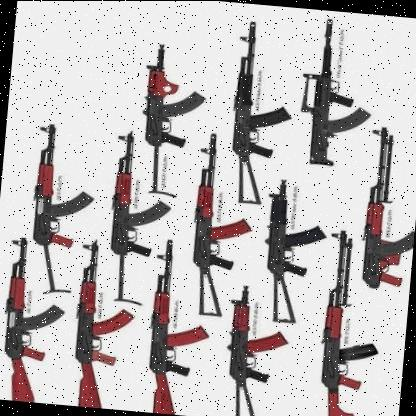rifle: (307, 224, 389, 416), (221, 17, 303, 208), (20, 118, 101, 296), (181, 130, 253, 318), (103, 130, 180, 305), (297, 15, 382, 170), (141, 245, 215, 416), (0, 240, 77, 404), (70, 250, 147, 410), (140, 36, 215, 197), (258, 178, 332, 326), (359, 127, 416, 293), (214, 287, 287, 416)
